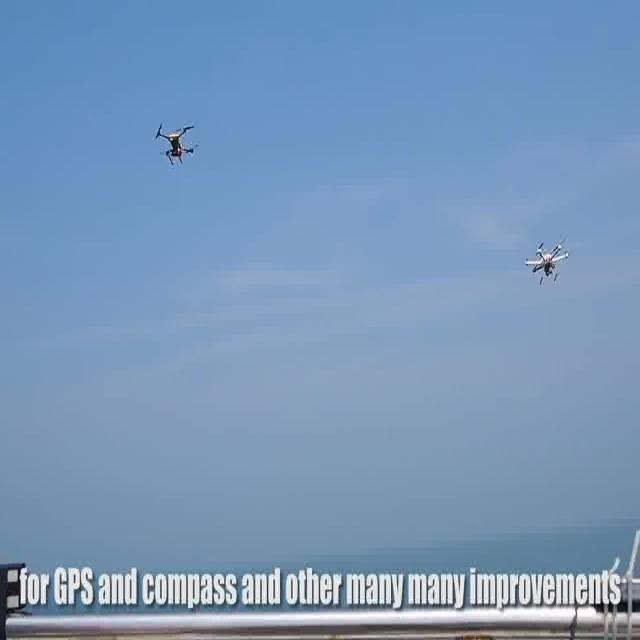drone: (151, 113, 198, 166), (525, 233, 570, 284)
